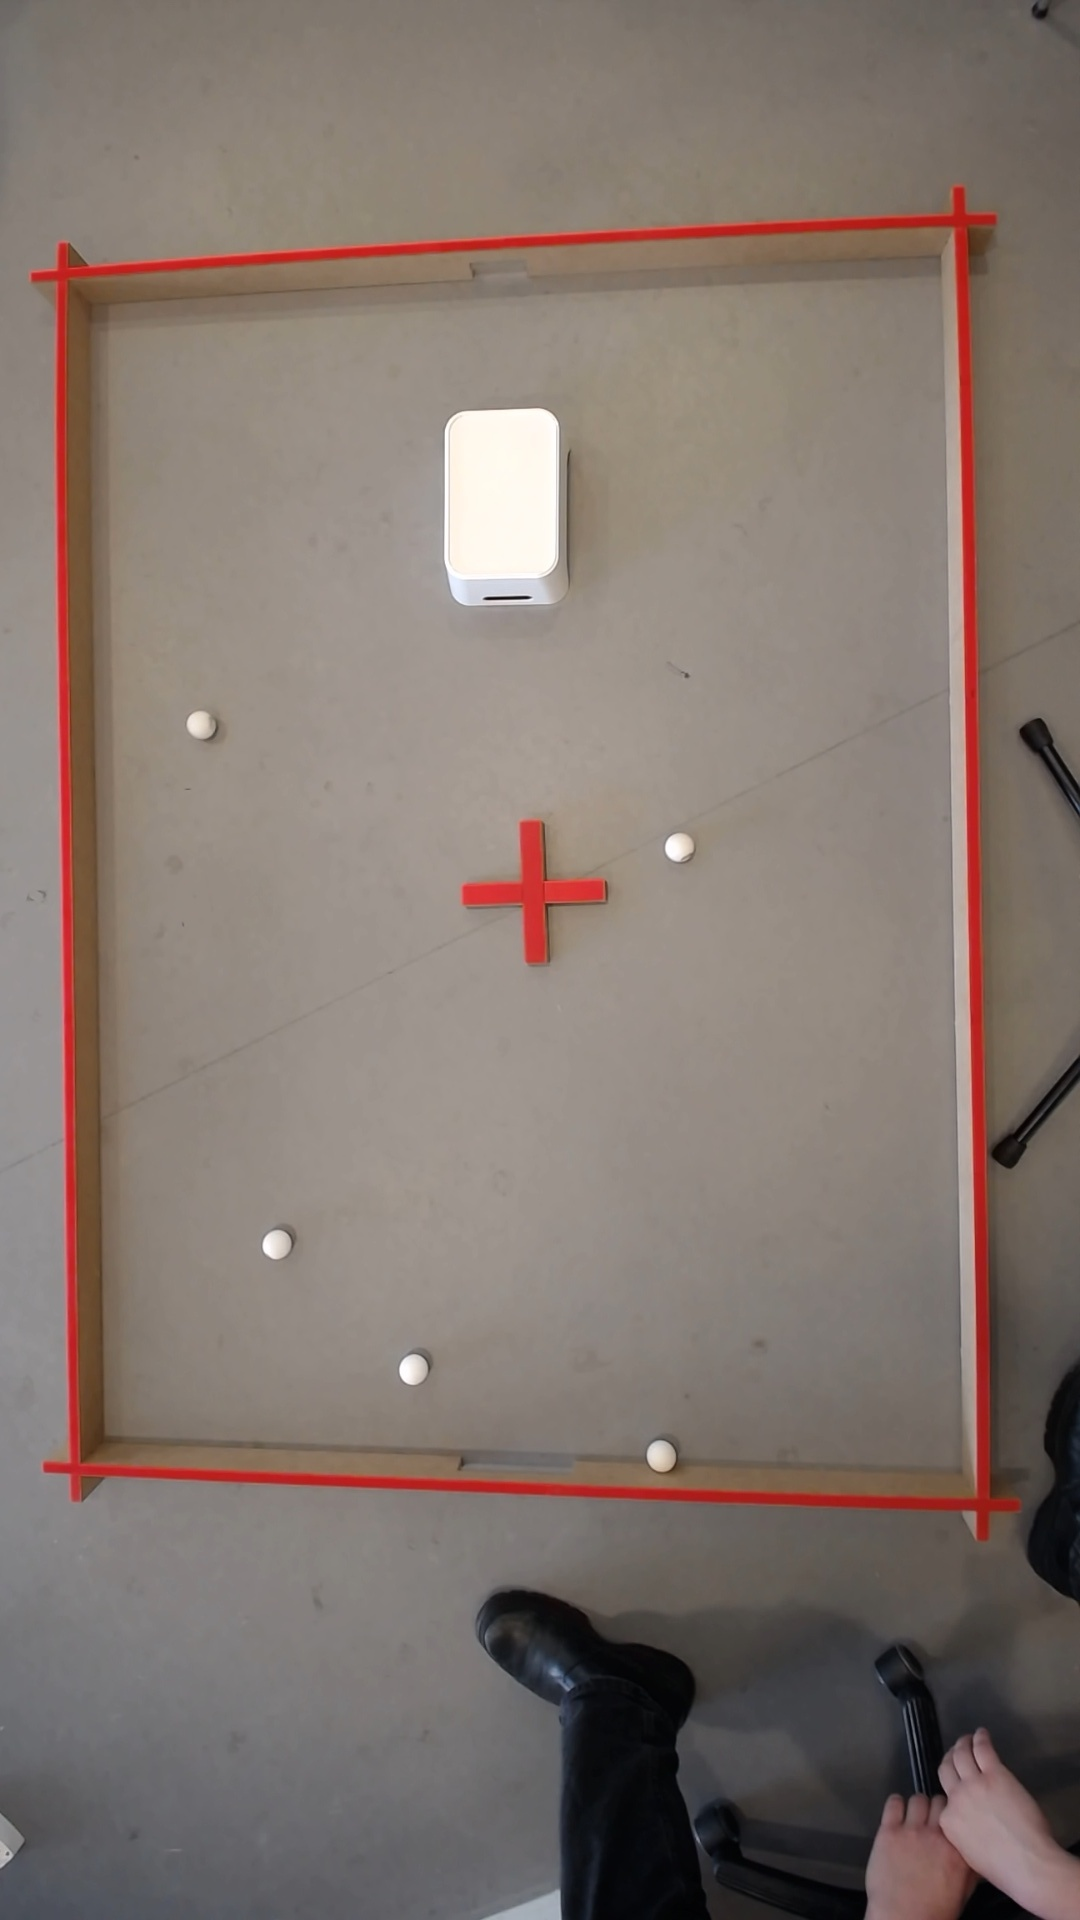balls: (658, 828, 694, 864), (393, 1349, 426, 1386), (257, 1226, 287, 1261), (182, 708, 208, 736), (646, 1443, 665, 1466)
car: (447, 433, 450, 559)
